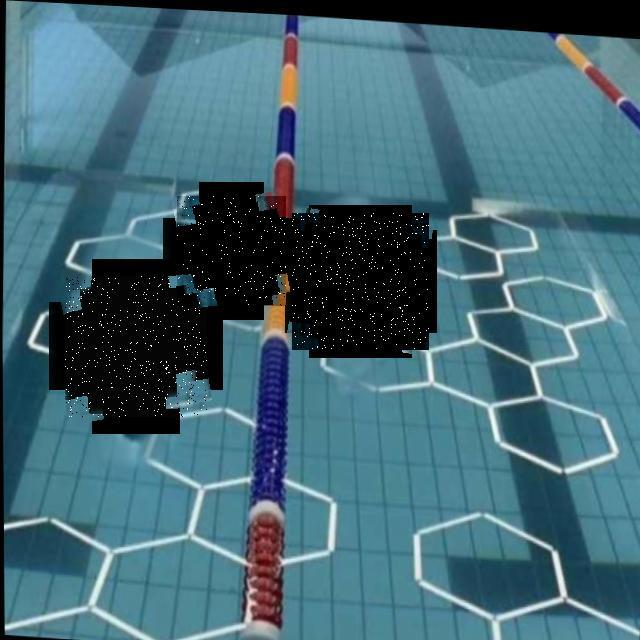swimming: (65, 276, 207, 417), (292, 213, 429, 350), (177, 196, 286, 306)
